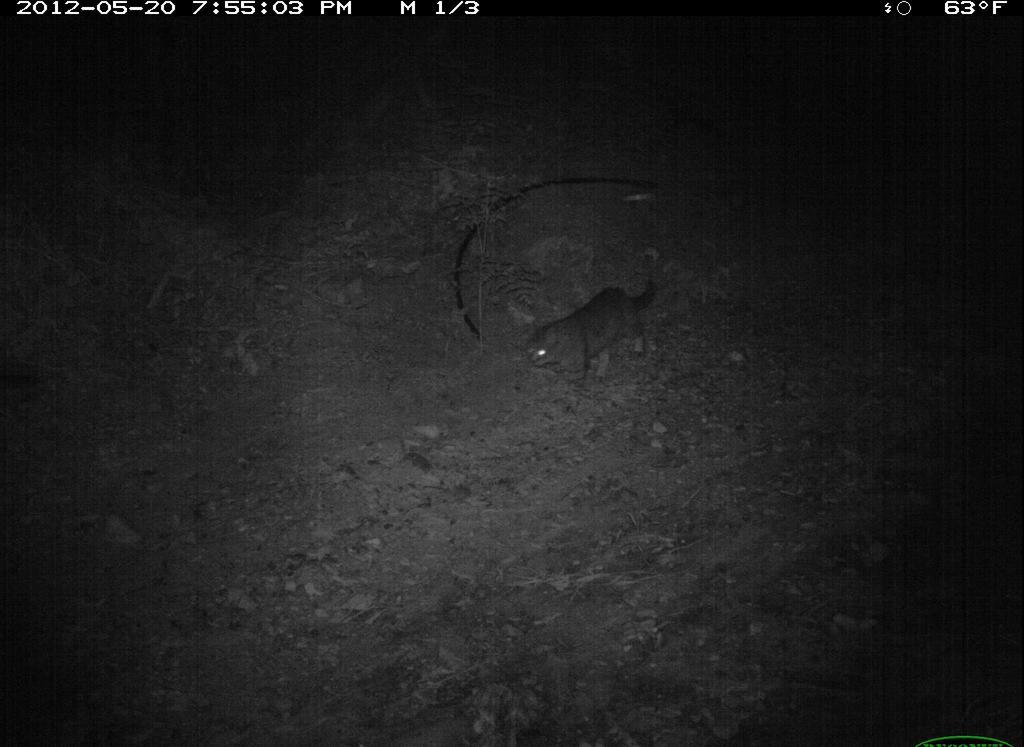cat: (521, 280, 680, 396)
